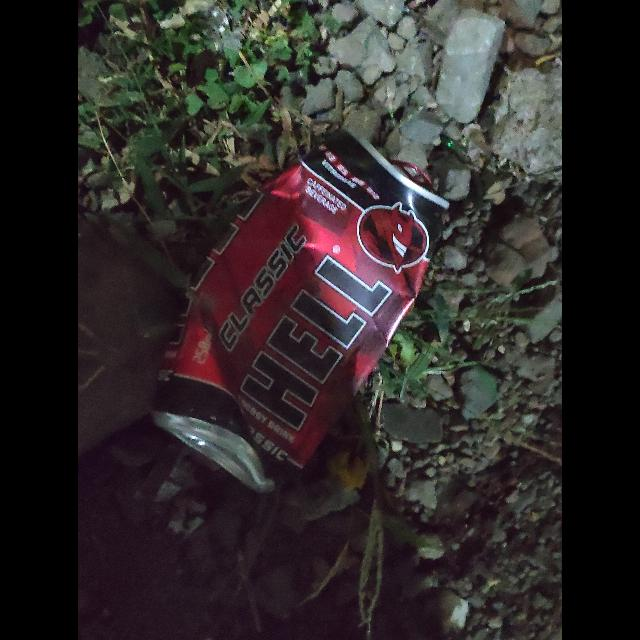trash: (147, 127, 450, 495)
